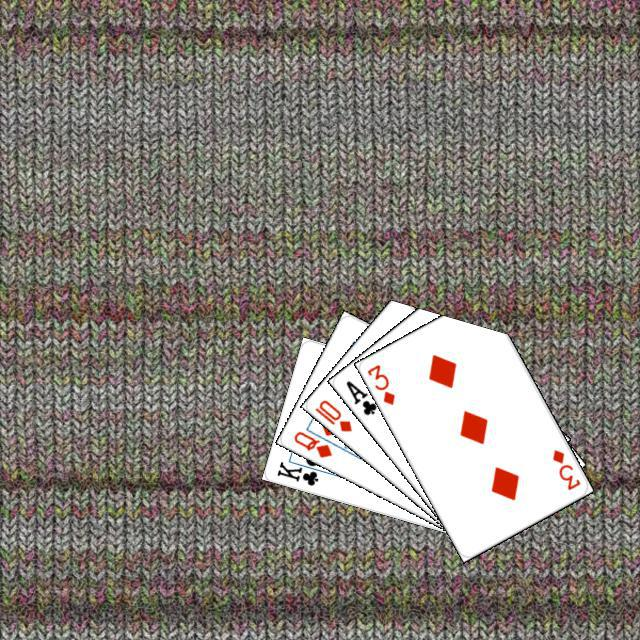10d: (310, 395, 353, 434)
3d: (362, 359, 397, 407), (547, 445, 582, 492)
Ac: (341, 375, 379, 417)
Kc: (272, 454, 327, 488)
Qd: (289, 426, 334, 460)
